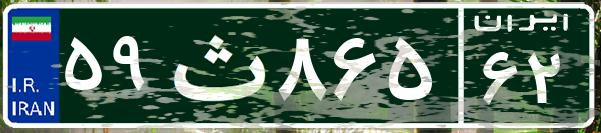2: (525, 38, 570, 115)
5: (385, 28, 445, 110), (57, 26, 110, 107)
6: (330, 28, 385, 110), (475, 38, 525, 113)
8: (273, 28, 330, 110)
9: (110, 28, 158, 105)
ث: (158, 15, 273, 115)
